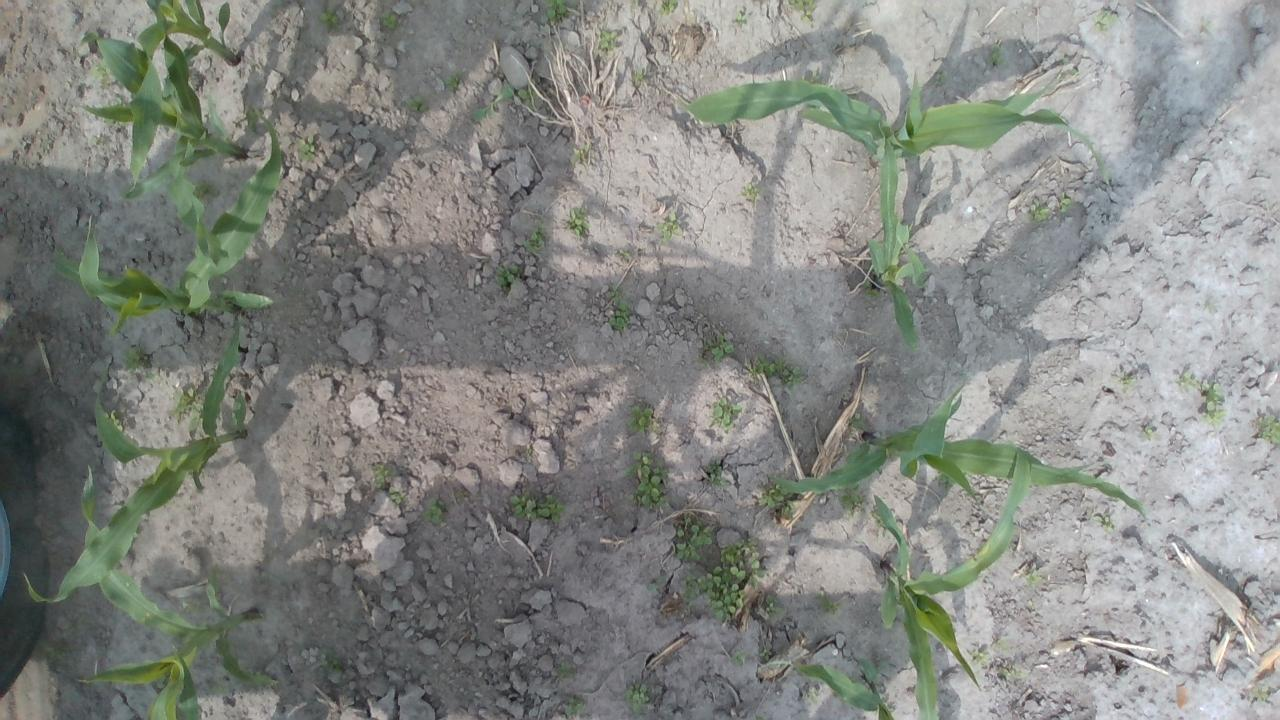Maize: (25, 312, 246, 609), (768, 385, 1148, 522), (75, 462, 276, 720), (687, 63, 1108, 183), (55, 117, 280, 340), (876, 448, 1029, 720), (76, 29, 248, 204), (867, 128, 927, 352), (130, 0, 240, 88), (796, 656, 896, 720)
Weeds: (682, 565, 745, 623), (624, 450, 670, 509), (719, 536, 767, 590), (672, 514, 716, 562), (510, 492, 567, 524), (750, 356, 806, 386), (473, 85, 513, 122), (758, 481, 795, 516), (1200, 380, 1225, 426), (711, 398, 742, 432), (704, 334, 738, 364), (622, 682, 650, 715), (40, 638, 70, 666), (174, 386, 196, 424), (422, 496, 448, 528), (519, 222, 545, 253), (564, 207, 591, 236), (1257, 412, 1280, 446), (706, 457, 730, 489), (192, 180, 224, 204), (628, 404, 654, 433), (840, 483, 864, 514), (320, 646, 346, 674), (787, 0, 817, 23), (658, 212, 681, 242), (608, 302, 631, 332), (816, 591, 842, 617), (372, 462, 397, 487), (496, 262, 520, 288), (546, 0, 570, 24), (123, 344, 146, 369), (320, 7, 343, 32), (89, 62, 111, 88), (245, 104, 264, 134), (1088, 514, 1116, 534), (764, 592, 785, 618), (296, 134, 317, 160), (1096, 8, 1118, 32), (404, 94, 430, 114), (936, 469, 954, 497), (986, 42, 1006, 66), (516, 84, 536, 108), (447, 71, 468, 93), (1029, 198, 1048, 222), (597, 30, 619, 50), (104, 409, 123, 432), (1116, 372, 1136, 393), (646, 574, 666, 594), (572, 144, 592, 164), (742, 182, 762, 202), (1177, 372, 1199, 390), (864, 280, 882, 302), (656, 0, 679, 17), (1199, 18, 1216, 40), (382, 9, 399, 31), (1002, 666, 1026, 681), (847, 412, 864, 432), (559, 663, 576, 682), (205, 681, 228, 695), (1058, 192, 1072, 214), (801, 68, 820, 84), (1251, 686, 1270, 702), (970, 649, 990, 664), (1023, 568, 1041, 584), (568, 698, 584, 716), (993, 638, 1010, 654), (872, 512, 887, 530), (608, 284, 621, 304), (1138, 424, 1153, 441), (183, 600, 200, 615), (731, 650, 745, 666), (758, 648, 772, 662), (804, 100, 820, 112), (632, 68, 644, 84), (390, 490, 403, 504), (934, 72, 947, 86), (736, 13, 749, 27), (90, 136, 104, 147), (144, 371, 161, 380), (1058, 54, 1070, 66), (619, 249, 630, 260), (752, 713, 768, 720)
